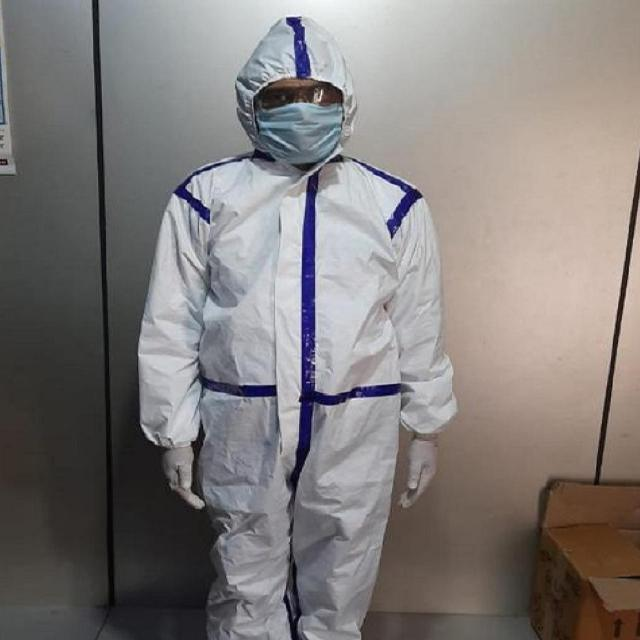Coverall: (128, 6, 465, 624)
Gloves: (150, 423, 228, 563), (393, 425, 443, 539)
Goggles: (251, 78, 352, 114)
Mask: (258, 94, 348, 175)
